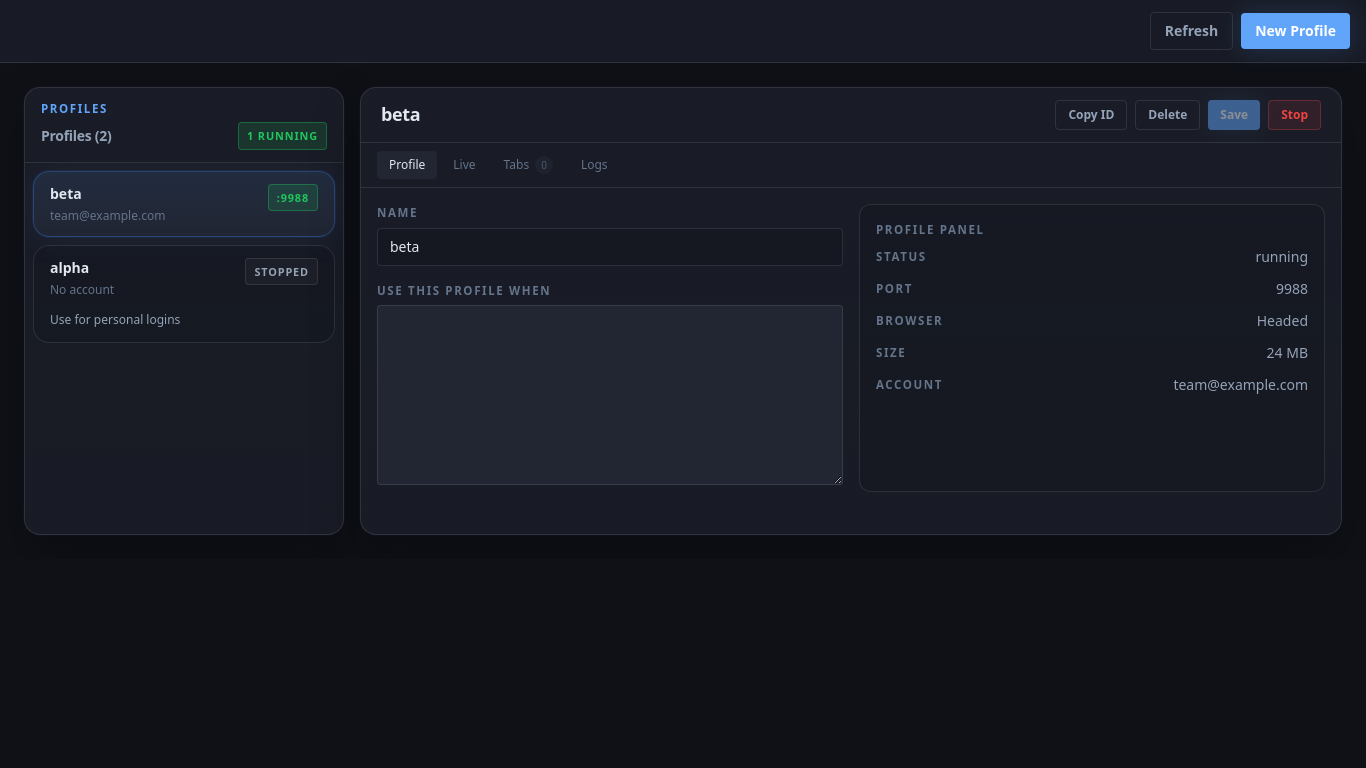
Test: ProfilesPage › switches the right detail pane when selecting another profile
The width and height of the screenshot is (1366, 768).
Check: the heading "beta" is shown, box [381,105,420,125]
Click the button "alpha No account stopped Use for personal logins": {"x": 70, "y": 267} [33,245,335,343]
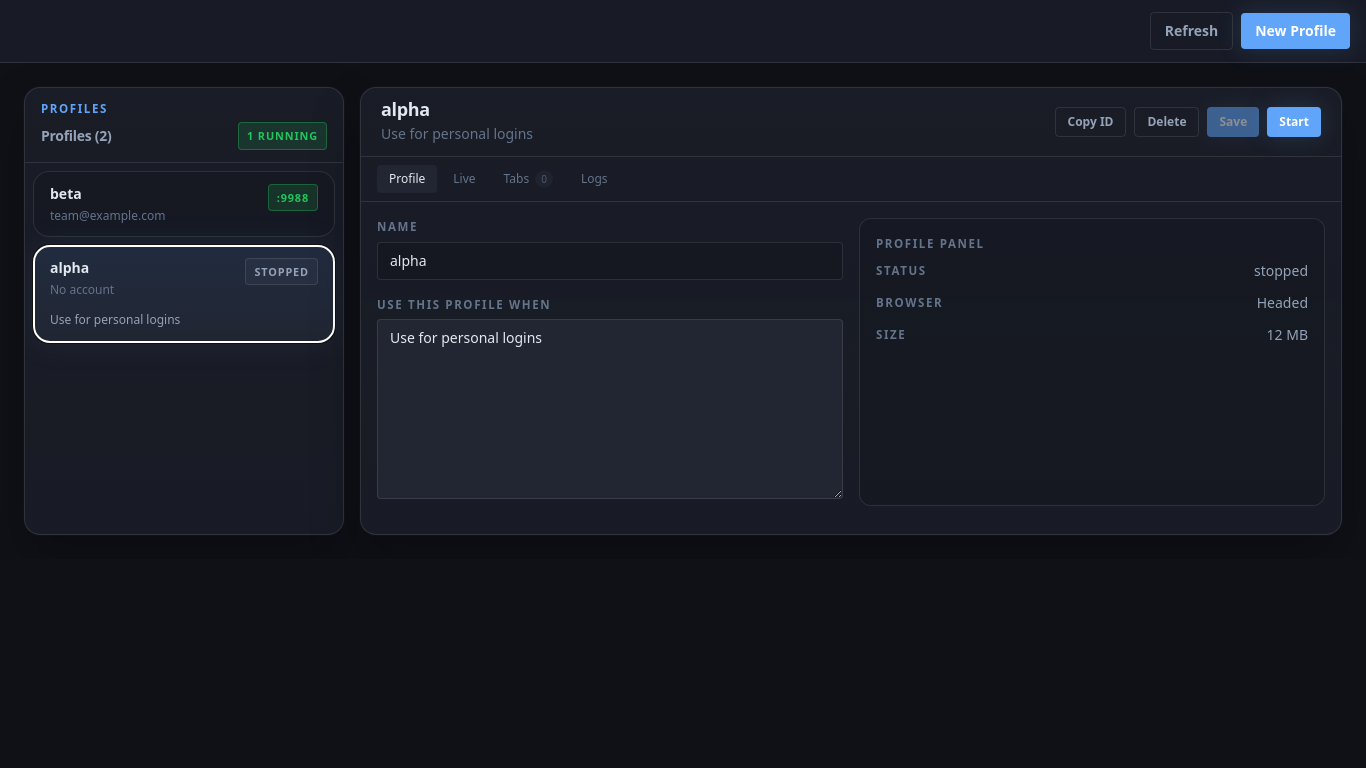
Check: the element "alpha" is shown, box [360,87,1342,535]
Check: the 1st text "Use for personal logins" is shown, box [381,124,533,144]
Check: the button "Start" is shown, box [1267,107,1321,137]
